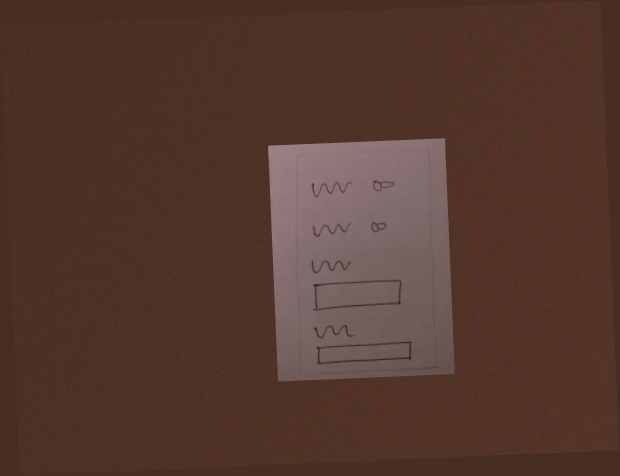switch: (368, 176, 401, 196), (367, 217, 392, 238)
text: (311, 319, 358, 344), (307, 177, 357, 200), (308, 254, 356, 277), (309, 219, 356, 241)
text_input: (308, 278, 408, 314), (314, 340, 416, 368)
